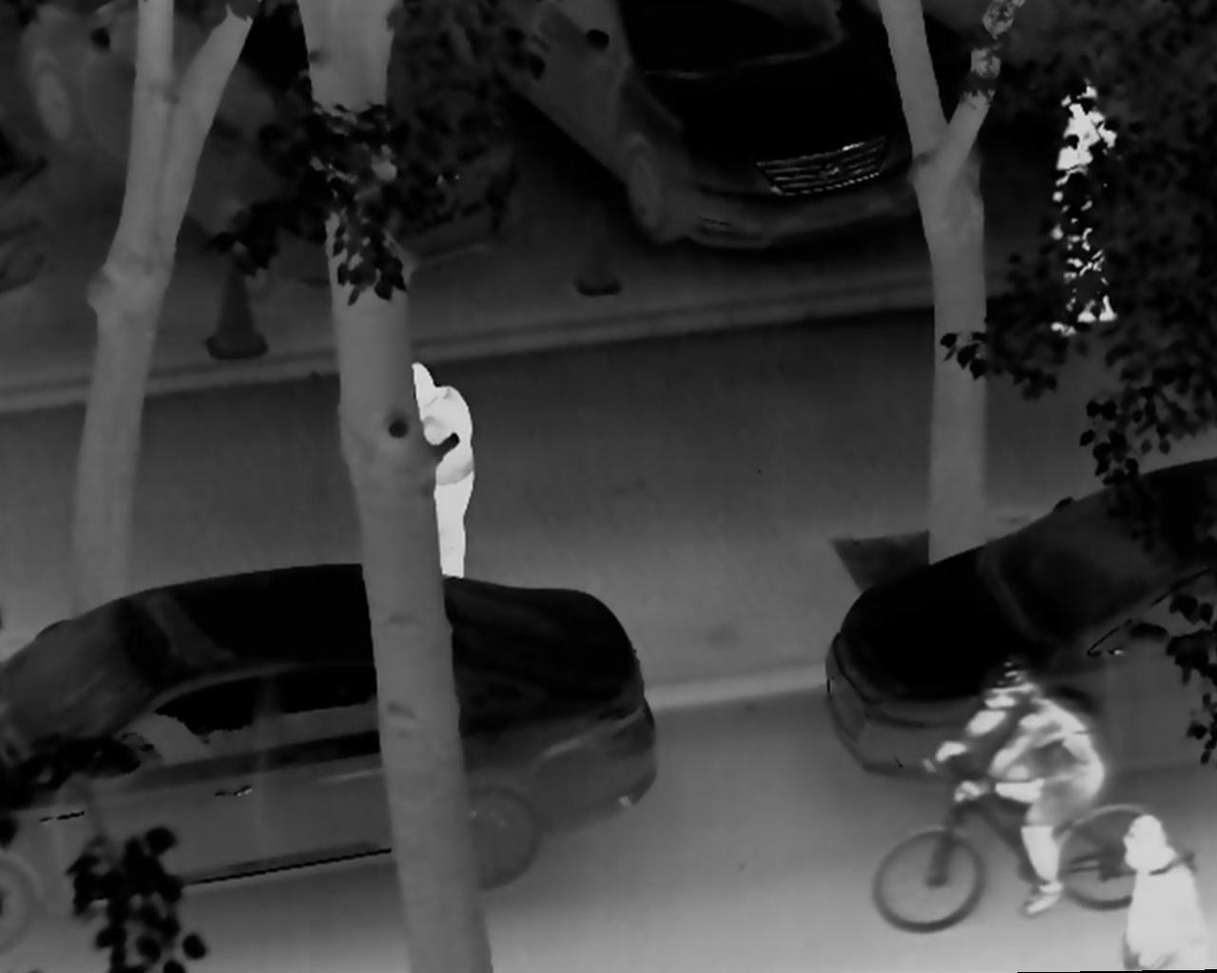person: (916, 652, 1107, 925), (1104, 803, 1217, 970), (401, 358, 473, 589)
